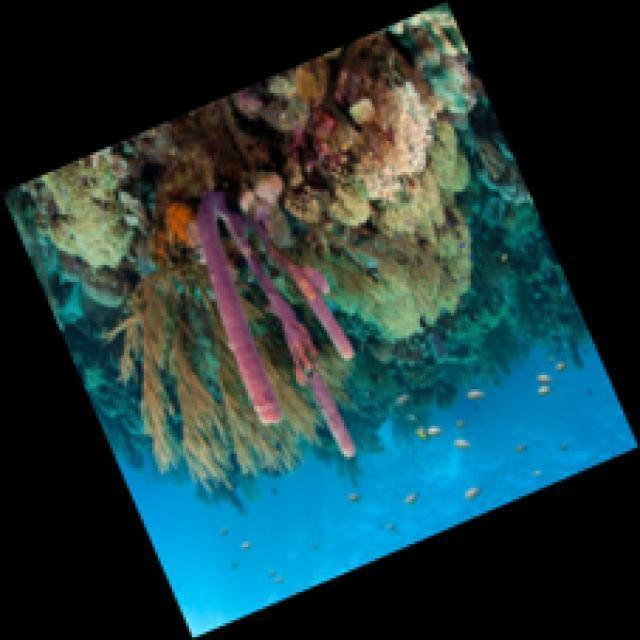Bleached: (297, 117, 476, 344), (387, 1, 485, 123), (40, 150, 136, 274), (363, 80, 433, 189)
Healthy: (191, 186, 367, 465), (153, 192, 198, 264)
